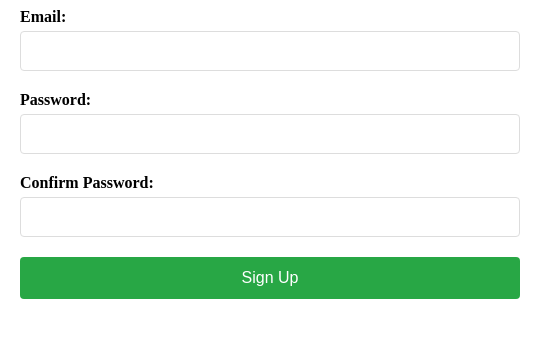
Test case: Form Component › Form Validation - Password › should show error when password is empty on submit
Step 1. Type "test@example.com" into the field with test id "email-input" → (270, 51), box [20,31,520,71]
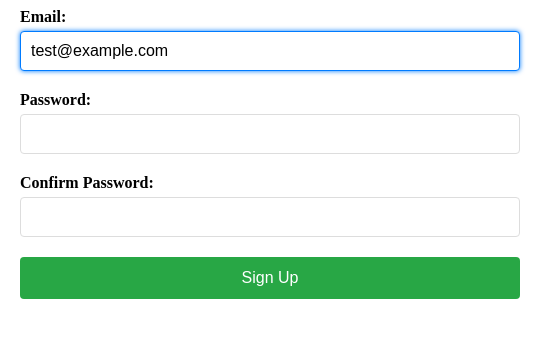
Step 2. Click the button with test id "submit-button" → click(270, 278), box [20,257,520,299]
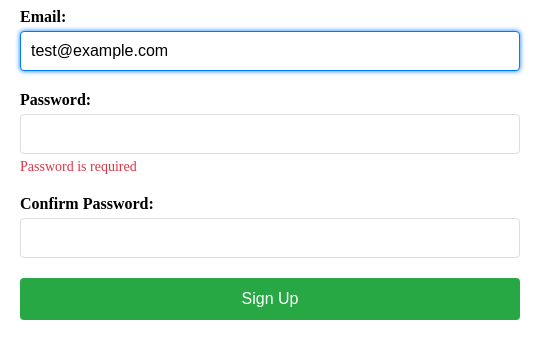
Now the text with test id "password-error" reads "Password is required", box [20,159,137,174]
